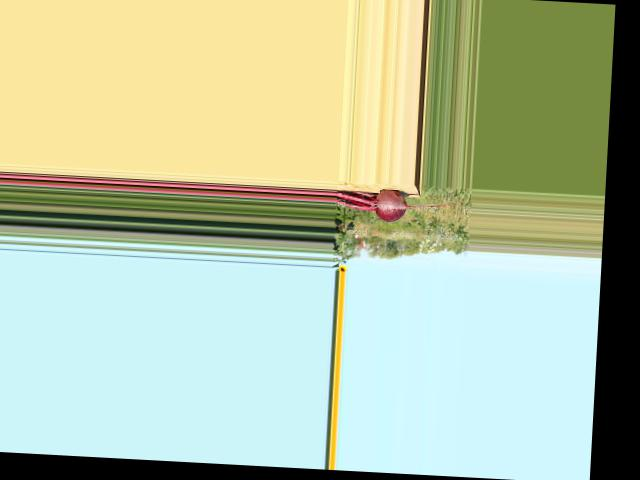beet: (333, 186, 467, 225)
